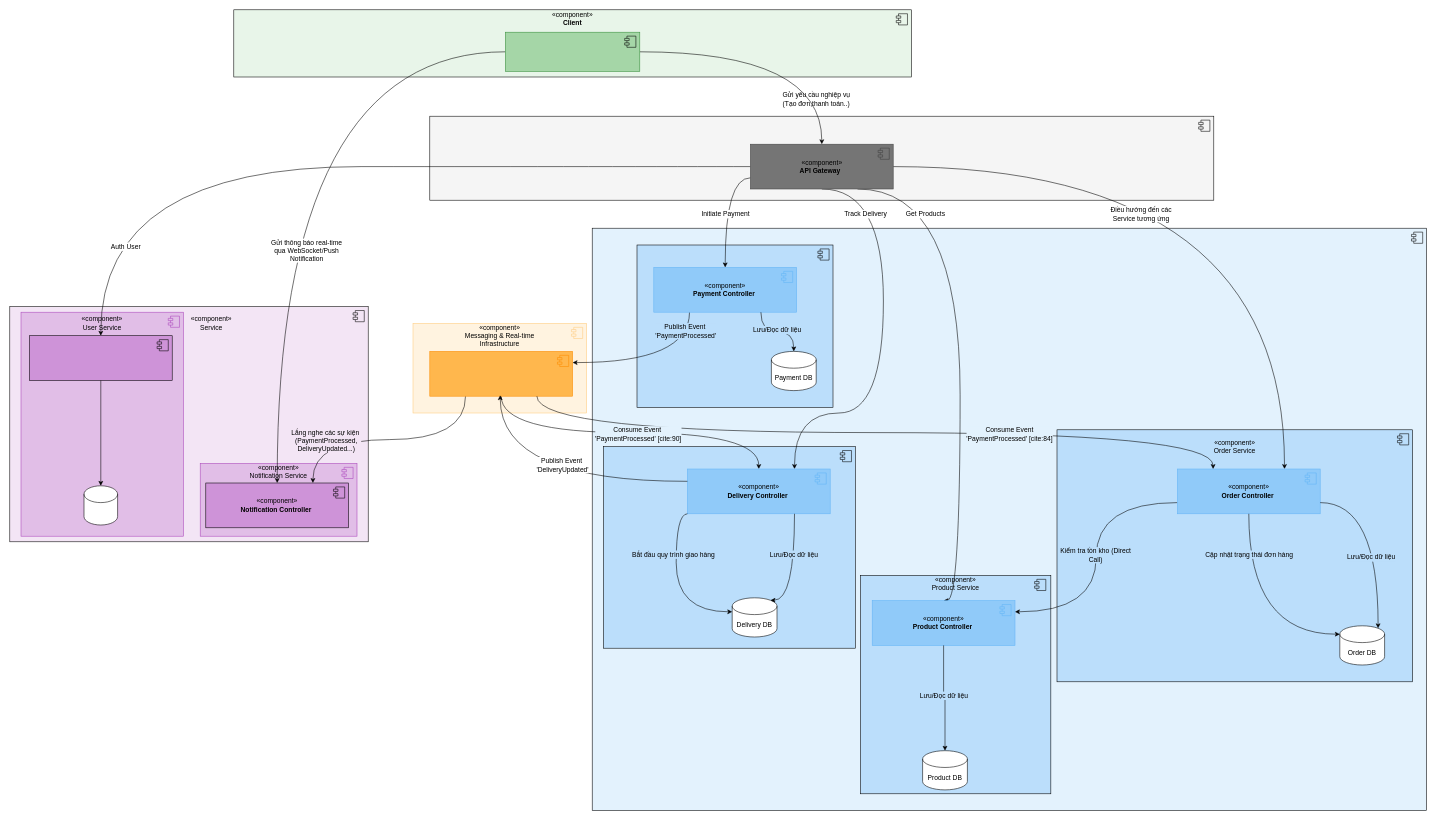
This 1436x820 diagram has some shape labels left out. The shapes that lost their labels are listed below. From the top down, each one's box as (x1, y1, x2, y2) in pixels, then its label:
(505, 32, 640, 71): «component» Client App (Web & Mobile)
(429, 116, 1214, 200): «component» Gateway
(636, 244, 833, 407): «component» Payment Service
(29, 335, 172, 381): «component» User Controller
(429, 351, 573, 396): «component» Message Broker
(83, 485, 118, 525): User DB
(592, 228, 1427, 811): «component» Core Microservice
(603, 446, 855, 648): «component» Delivery Service
